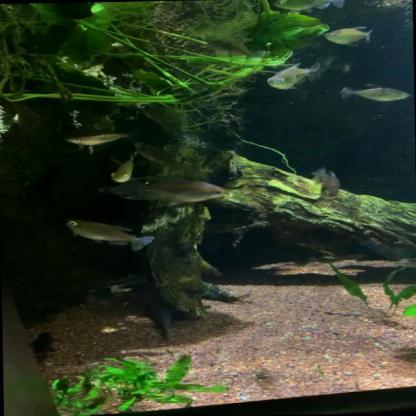fish: (97, 175, 231, 209), (60, 214, 158, 254), (266, 61, 325, 91), (338, 84, 410, 103), (65, 131, 130, 150), (29, 331, 63, 365), (271, 0, 349, 14), (323, 26, 375, 47), (310, 167, 341, 199), (111, 154, 135, 183)
